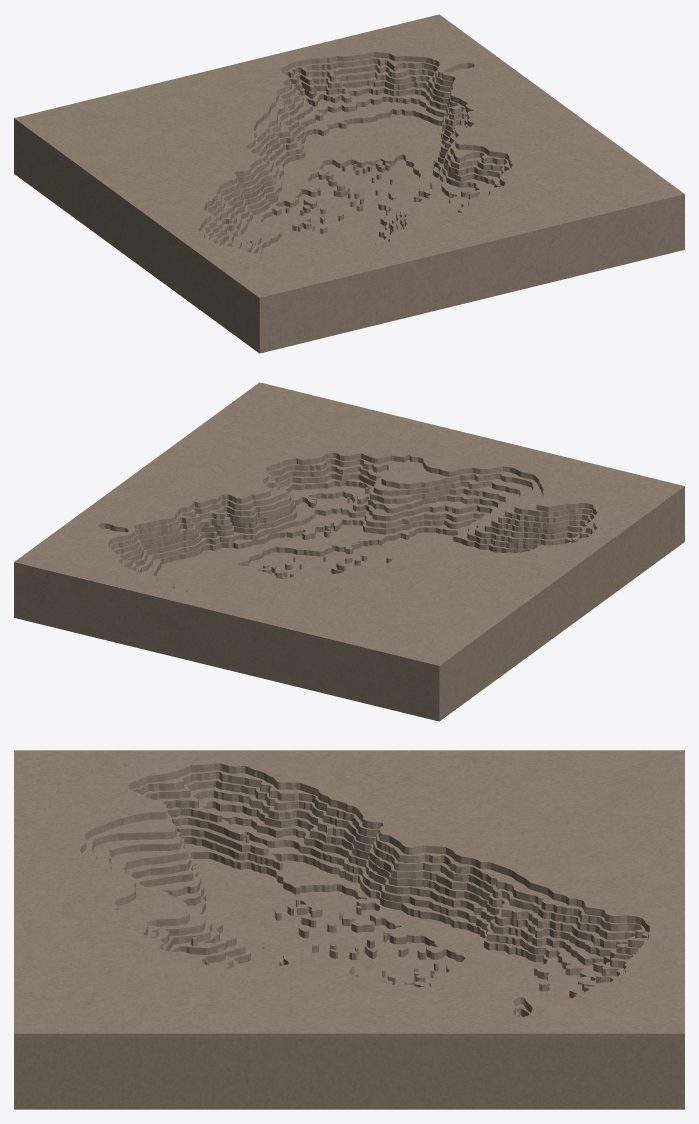
The model's file is coaster-draco.954d1149.glb.
3 renders of one model, top to bottom at view 1: azimuth 30°, elevation 25°; view 2: azimuth 150°, elevation 25°; view 3: azimuth 270°, elevation 25°, orthographic. The views are drawn at different scales.
Parts seen in each view (by area): view 1: coaster.001; view 2: coaster.001; view 3: coaster.001.
Part boxes in pixels (x1,y1,x2,y2): coaster.001: (14,14,684,353); coaster.001: (14,382,684,721); coaster.001: (14,750,684,1109).
Size of the model in its own units: 102 by 12.71 by 102.
1 material, 1 textured.
